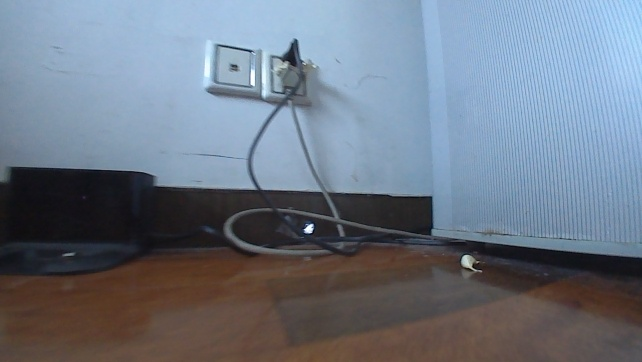charger: (0, 162, 159, 278)
wire: (152, 39, 467, 263)
